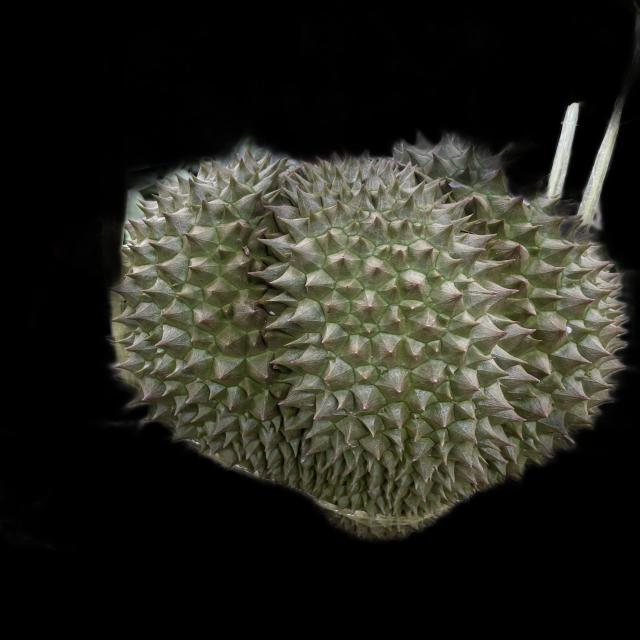immature: (104, 140, 631, 522)
